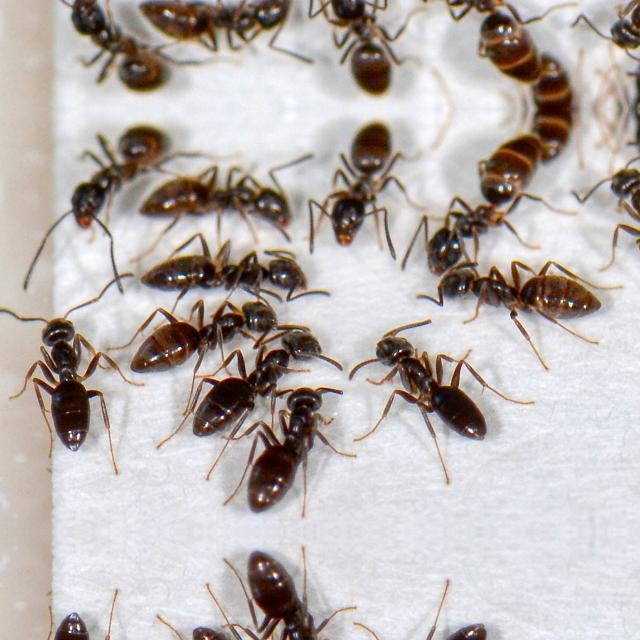Tapinoma: (400, 115, 570, 268), (350, 312, 518, 456), (212, 374, 356, 526), (174, 306, 324, 450), (0, 292, 124, 466), (414, 252, 618, 336), (400, 0, 570, 100), (45, 115, 181, 232), (210, 536, 356, 640), (310, 116, 424, 248), (116, 294, 290, 378), (45, 0, 181, 100), (130, 160, 306, 234), (308, 0, 424, 100), (126, 242, 314, 302), (128, 0, 306, 56), (586, 155, 636, 273), (348, 606, 518, 640), (0, 596, 124, 640), (584, 0, 635, 60)
